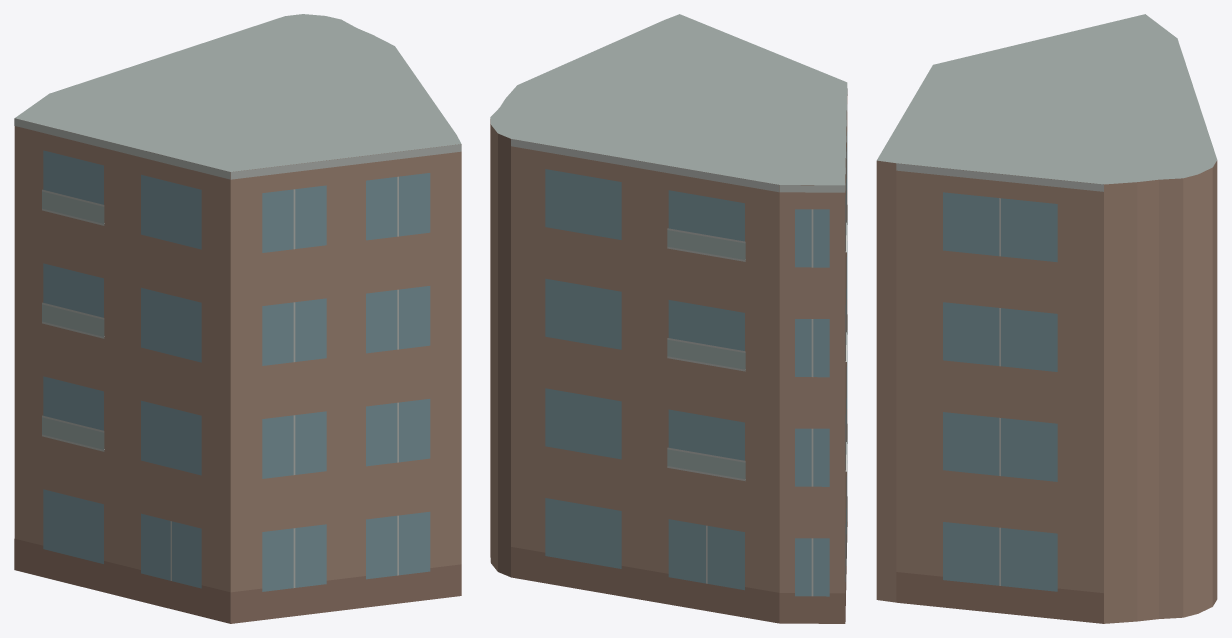
File: survey-upis-32456408.glb
The picture shows the model from 3 angles, left to right: view 1: azimuth 30°, elevation 25°; view 2: azimuth 150°, elevation 25°; view 3: azimuth 270°, elevation 25°; orthographic projection. The views are drawn at different scales.
Parts seen in each view (by area): view 1: survey-upis-32456408.tmp; view 2: survey-upis-32456408.tmp; view 3: survey-upis-32456408.tmp.
Boxes of the visible parts, box(x1,y1,x2,y2) form: survey-upis-32456408.tmp: box(14, 14, 461, 623); survey-upis-32456408.tmp: box(490, 14, 847, 623); survey-upis-32456408.tmp: box(876, 14, 1217, 623).
Size of the model in its own units: 12 by 14.41 by 10.14.
